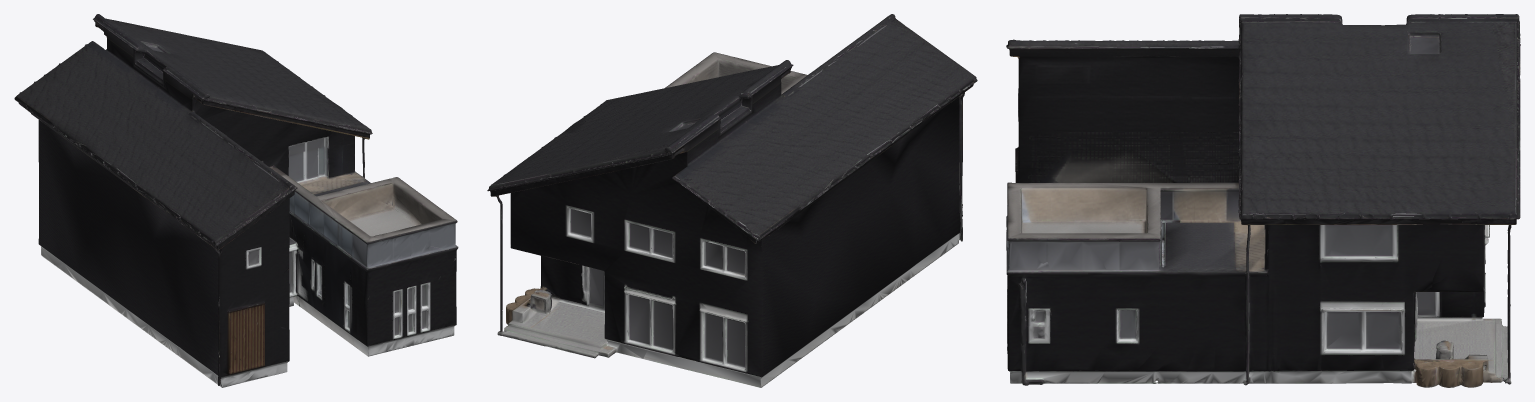
Rendered from sakyo-house.glb.
3 renders of one model, left to right at view 1: azimuth 30°, elevation 25°; view 2: azimuth 150°, elevation 25°; view 3: azimuth 270°, elevation 25°, orthographic. The views are drawn at different scales.
Parts seen in each view (by area): view 1: Mesh_0; view 2: Mesh_0; view 3: Mesh_0.
Part boxes in pixels (box(x1,y1,x2,y2)): Mesh_0: box(14, 14, 458, 387); Mesh_0: box(487, 14, 977, 387); Mesh_0: box(1006, 14, 1520, 387).
Bounding box in the file's own units: 1.37 × 1.12 × 1.91.
Materials: 1 (1 with a texture image).
